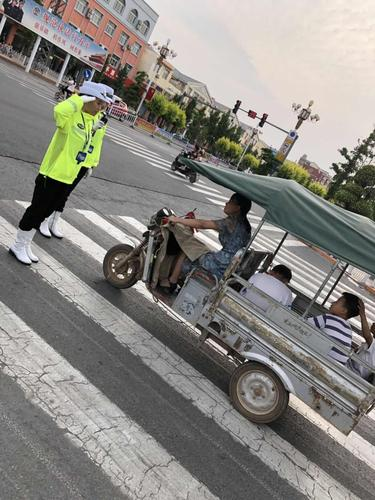driver: (184, 175, 253, 281)
overloading: (127, 136, 375, 446)
passenger: (316, 289, 374, 364), (255, 259, 304, 329)
